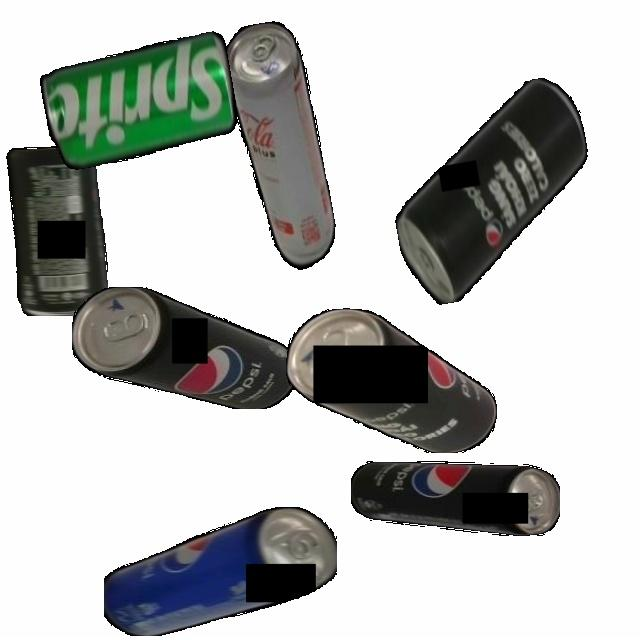debris: (376, 73, 609, 309), (220, 17, 342, 279), (286, 307, 497, 453), (103, 507, 337, 636), (37, 30, 242, 173), (72, 286, 297, 409), (5, 145, 108, 316), (350, 461, 560, 536)
